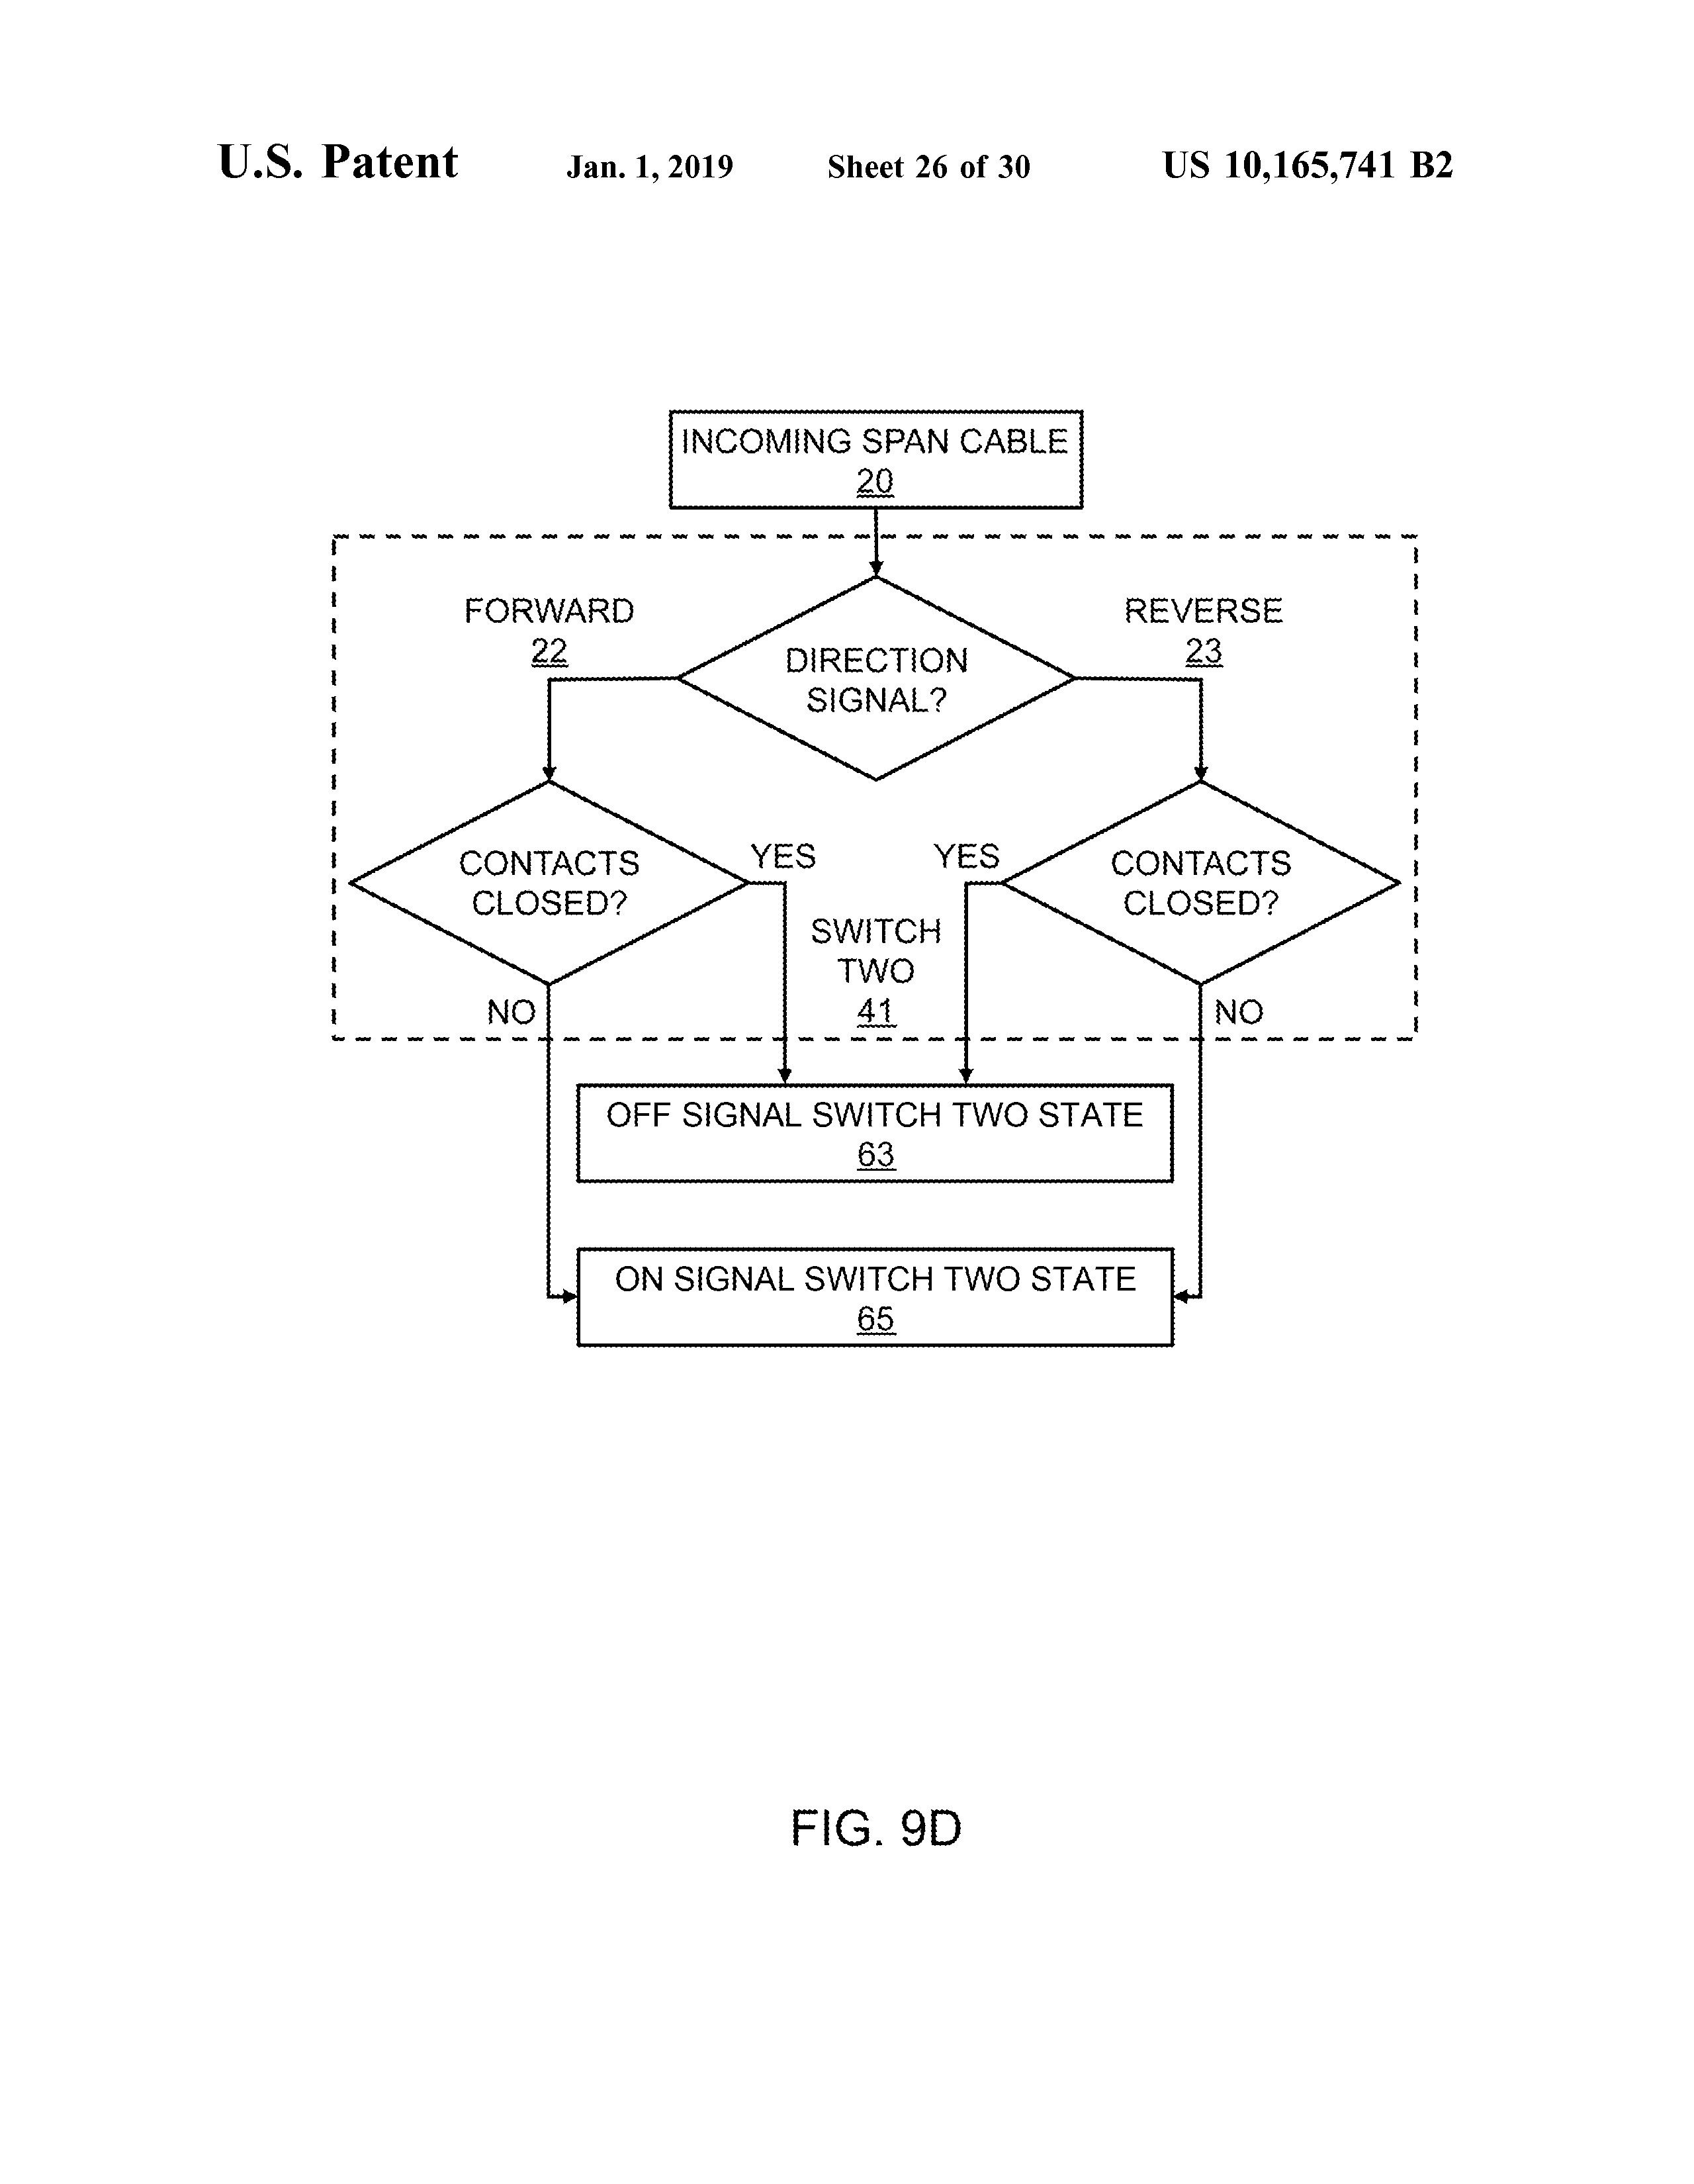patent image: (297, 388, 1447, 1875)
